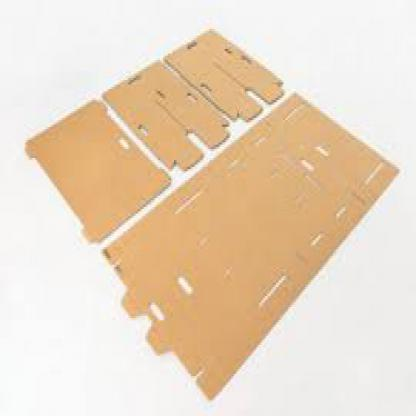CARDBOARD: (102, 89, 398, 396), (23, 98, 170, 242), (102, 60, 228, 169), (163, 27, 282, 120)
